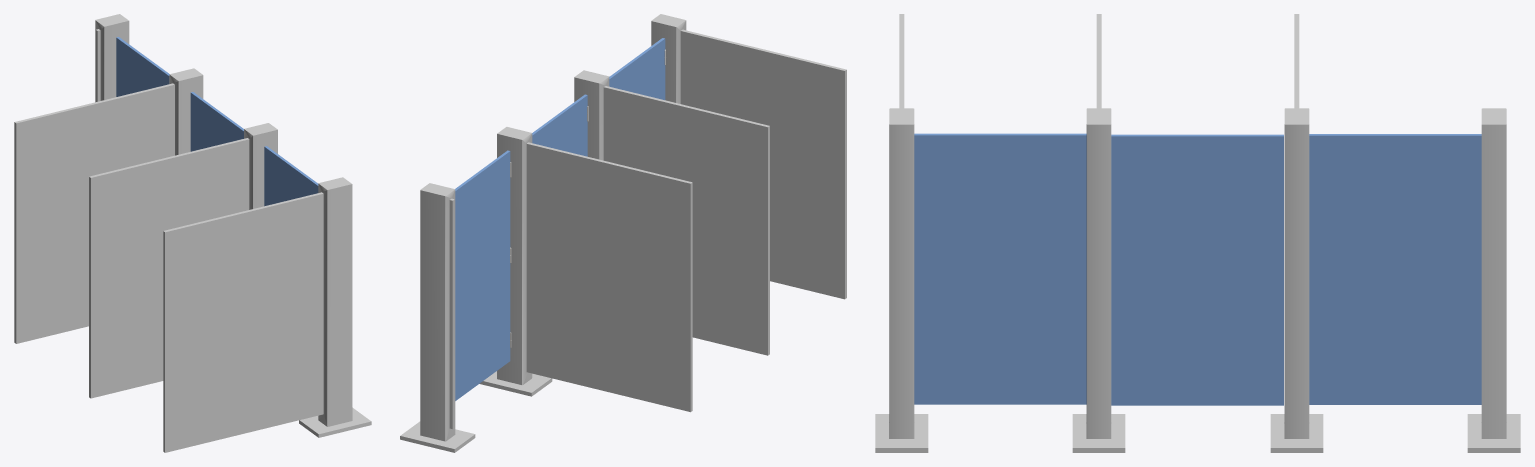
File: Restroom_Cubicle.fbx
The picture shows the model from 3 angles, left to right: view 1: azimuth 30°, elevation 25°; view 2: azimuth 150°, elevation 25°; view 3: azimuth 270°, elevation 25°; orthographic projection. The views are drawn at different scales.
Parts seen in each view (by area): view 1: Cube.001, Cube.005, Cube.008, Cube.006; view 2: Cube.001, Cube.008, Cube.005, Cube.006; view 3: Cube.005, Cube.006, Cube.008, Cube.001.
Boxes of the visible parts, x1=… form: Cube.001: x1=14, y1=14, x2=371, y2=452; Cube.005: x1=264, y1=146, x2=318, y2=206; Cube.008: x1=116, y1=37, x2=169, y2=96; Cube.006: x1=190, y1=92, x2=243, y2=151; Cube.001: x1=400, y1=14, x2=846, y2=452; Cube.008: x1=455, y1=150, x2=511, y2=400; Cube.005: x1=609, y1=38, x2=665, y2=100; Cube.006: x1=532, y1=94, x2=588, y2=156; Cube.005: x1=914, y1=133, x2=1086, y2=404; Cube.006: x1=1111, y1=134, x2=1283, y2=405; Cube.008: x1=1309, y1=134, x2=1481, y2=404; Cube.001: x1=875, y1=14, x2=1520, y2=452.
Bounding box in the file's own units: 347 × 404 × 739.
